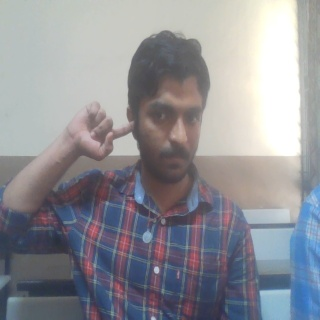Deaf: (62, 99, 138, 164)
Face: (125, 28, 212, 188)
